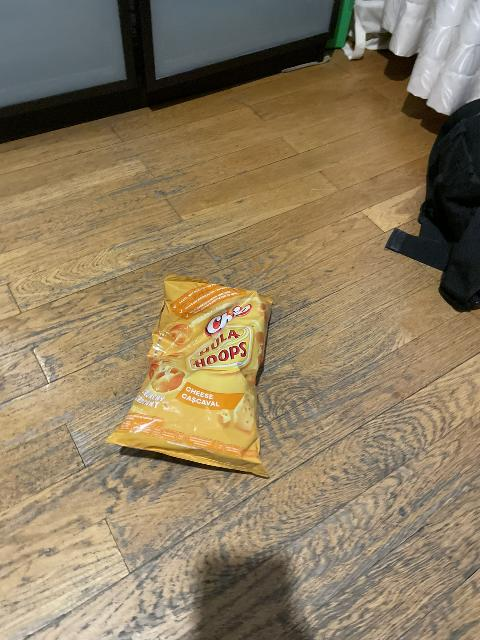Chio Hula Hoops Cheese 70g: (108, 283, 277, 479)
